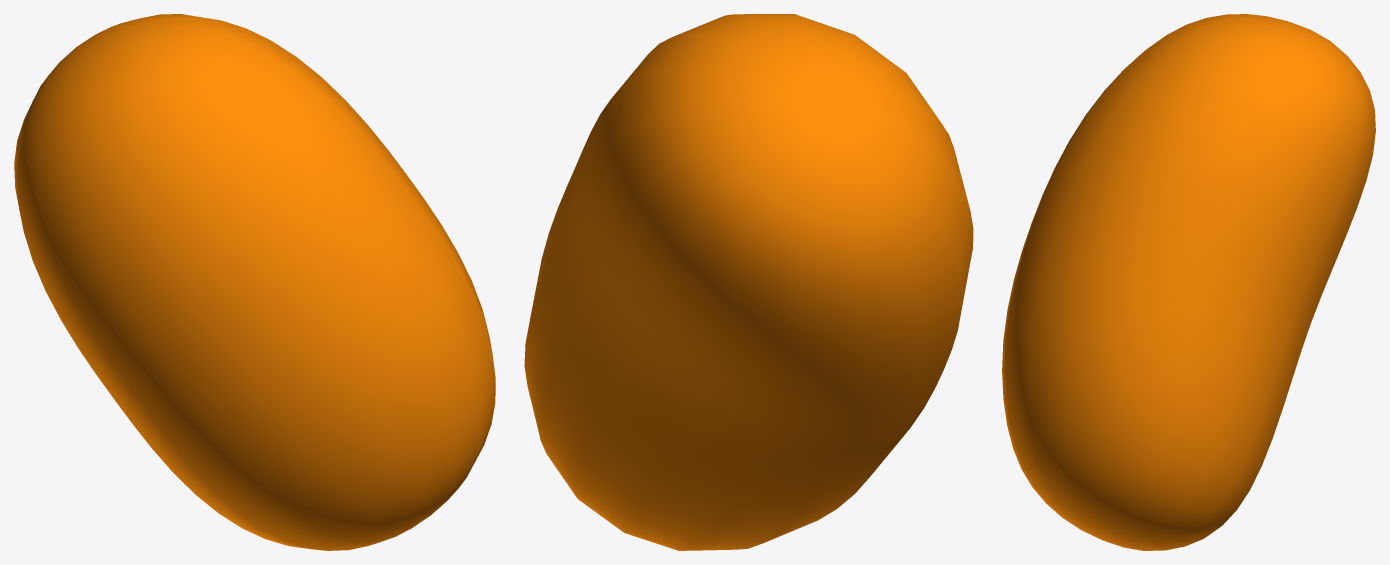
3 renders of one model, left to right at view 1: azimuth 30°, elevation 25°; view 2: azimuth 150°, elevation 25°; view 3: azimuth 270°, elevation 25°, orthographic. The views are drawn at different scales.
Parts seen in each view (by area): view 1: JumboJellyBean.092; view 2: JumboJellyBean.092; view 3: JumboJellyBean.092.
Boxes of the visible parts, x1,y1,x2,y2 form: JumboJellyBean.092: (14, 14, 495, 550); JumboJellyBean.092: (524, 14, 973, 550); JumboJellyBean.092: (1002, 14, 1375, 550).
Size of the model in its own units: 0.8973 by 1.09 by 0.8021.
